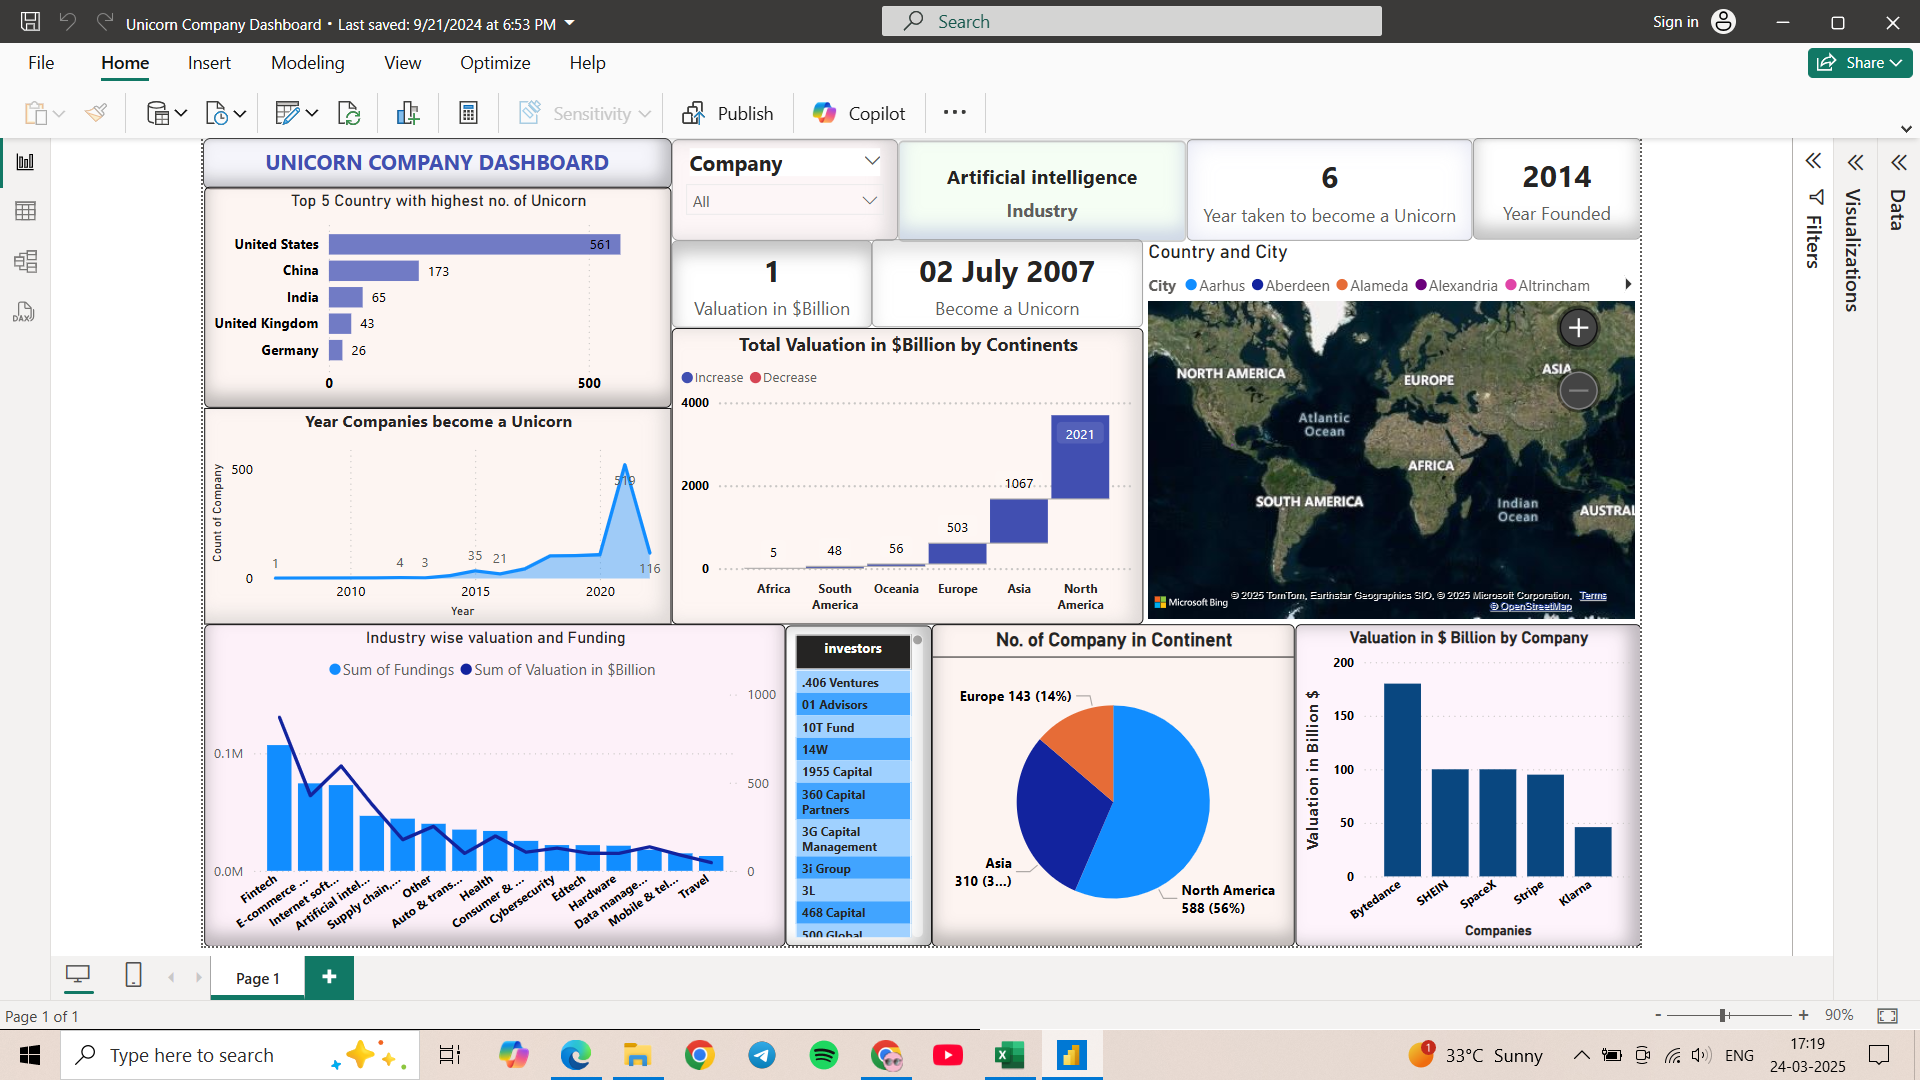

The page's visual inventory and layout, read from the dashboard file:
{"tool":"powerbi","page":{"name":"Page 1","canvas":[1280,720],"ordinal":0},"visuals":[{"type":"textbox","box":[0,0,417.4,45.8],"z":0},{"type":"textbox","box":[10,570,280,150],"z":2},{"type":"slicer","fields":{"Values":["Unicorn_Companies.Company"]},"box":[417.4,1.2,201.5,90.5],"z":3},{"type":"card","fields":{"Values":["Min(Unicorn_Companies.Industry)"]},"box":[618.9,2.4,257,90.5],"z":4},{"type":"card","fields":{"Values":["Median(Unicorn_Companies.Year taken to become unicorn)"]},"box":[875.9,1.2,254.6,90.5],"z":5},{"type":"card","fields":{"Values":["Median(Unicorn_Companies.Year Founded)"]},"box":[1130.4,0,149.6,90.5],"z":6},{"type":"card","fields":{"Values":["Min(Unicorn_Companies.Valuation in $Billion)"]},"box":[417.4,91.7,178.6,77.2],"z":7},{"type":"card","fields":{"Values":["Min(Unicorn_Companies.Date Joined)"]},"box":[596,90.5,241.3,78.4],"z":8},{"type":"barChart","title":"Top 5 Country with highest no. of Unicorn","fields":{"Category":["Unicorn_Companies.Country"],"Y":["CountNonNull(Unicorn_Companies.Company)"]},"box":[1.2,43.4,416.2,196.6],"z":9},{"type":"pieChart","title":"No. of Company in Continent","fields":{"Category":["Unicorn_Companies.Continent"],"Y":["CountNonNull(Unicorn_Companies.Company)"]},"box":[649.1,433.1,323.3,287.1],"z":10},{"type":"columnChart","title":"Valuation in $ Billion by Company","fields":{"Category":["Unicorn_Companies.Company"],"Y":["Sum(Unicorn_Companies.Valuation in $Billion)"]},"box":[972.4,433.1,307.6,287.1],"z":11},{"type":"tableEx","fields":{"Values":["investors.investors"]},"box":[518.8,434.3,130.3,285.9],"z":12},{"type":"waterfallChart","title":"Total Valuation in $Billion by Continents","fields":{"Category":["Unicorn_Companies.Continent"],"Y":["Sum(Unicorn_Companies.Valuation in $Billion)"]},"box":[417.4,168.9,419.8,264.2],"z":13},{"type":"filledMap","fields":{"Category":["Unicorn_Companies.Country"],"Series":["Unicorn_Companies.City"]},"box":[837.3,91.7,442.8,341.4],"z":14},{"type":"areaChart","title":"Year Companies become a Unicorn","fields":{"Category":["Unicorn_Companies.Date Joined.Variation.Date Hierarchy.Year","Unicorn_Companies.Date Joined.Variation.Date Hierarchy.Quarter","Unicorn_Companies.Date Joined.Variation.Date Hierarchy.Month","Unicorn_Companies.Date Joined.Variation.Date Hierarchy.Day"],"Y":["CountNonNull(Unicorn_Companies.Company)"]},"box":[1.2,240.1,416.2,193],"z":15},{"type":"lineStackedColumnComboChart","title":"Industry wise valuation and Funding","fields":{"Category":["Unicorn_Companies.Industry"],"Y2":["Sum(Unicorn_Companies.Valuation in $Billion)"],"Y":["Sum(Funding.Fundings)"]},"box":[1.2,433.1,517.6,287.1],"z":16}]}

Visuals, with their boxes on the page's 1280x720 design canvas (x1, y1, x2, y2). These are canvas units, not pixel positions in the 1920x1080 screenshot, which may show the page scaled, cropped or inside an application window:
textbox: region(0, 0, 417, 46)
textbox: region(10, 570, 290, 720)
slicer - Unicorn_Companies.Company: region(417, 1, 619, 92)
card - Min(Unicorn_Companies.Industry): region(619, 2, 876, 93)
card - Median(Unicorn_Companies.Year taken to become unicorn): region(876, 1, 1130, 92)
card - Median(Unicorn_Companies.Year Founded): region(1130, 0, 1280, 90)
card - Min(Unicorn_Companies.Valuation in $Billion): region(417, 92, 596, 169)
card - Min(Unicorn_Companies.Date Joined): region(596, 90, 837, 169)
"Top 5 Country with highest no. of Unicorn" barChart: region(1, 43, 417, 240)
"No. of Company in Continent" pieChart: region(649, 433, 972, 720)
"Valuation in $ Billion by Company" columnChart: region(972, 433, 1280, 720)
tableEx - investors.investors: region(519, 434, 649, 720)
"Total Valuation in $Billion by Continents" waterfallChart: region(417, 169, 837, 433)
filledMap - Unicorn_Companies.Country x Unicorn_Companies.City: region(837, 92, 1280, 433)
"Year Companies become a Unicorn" areaChart: region(1, 240, 417, 433)
"Industry wise valuation and Funding" lineStackedColumnComboChart: region(1, 433, 519, 720)
